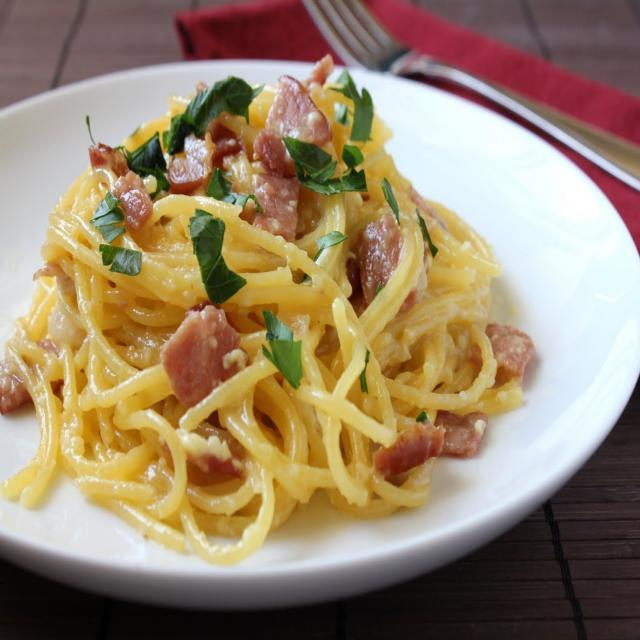Pasta with carbonara sauce: (22, 63, 550, 537)
